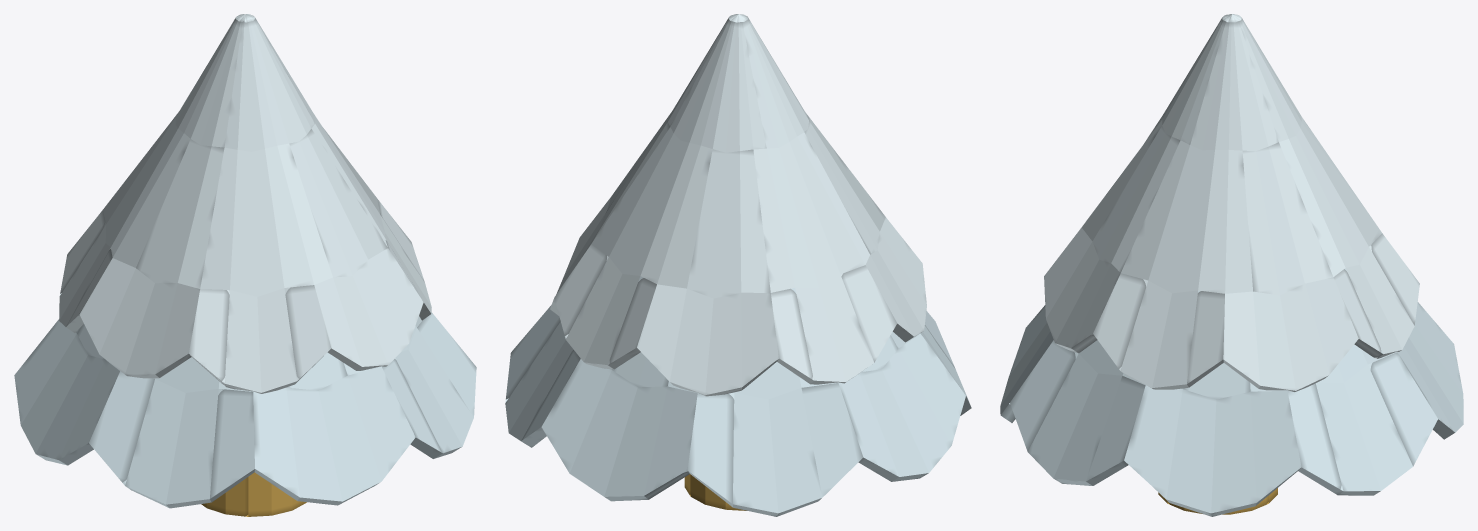
File: treeWhite2.fbx
3 views of the same model, side by side, from view 1: azimuth 30°, elevation 25°; view 2: azimuth 150°, elevation 25°; view 3: azimuth 270°, elevation 25° (orthographic).
Visible parts, largest first — view 1: leaf5, leaf4, woodTree; view 2: leaf5, leaf4, woodTree; view 3: leaf5, leaf4.
Part boxes in pixels (<box>): leaf5: <box>59,14,431,393</box>; leaf4: <box>14,290,476,508</box>; woodTree: <box>201,472,306,516</box>; leaf5: <box>550,14,926,396</box>; leaf4: <box>505,276,971,516</box>; woodTree: <box>684,474,746,510</box>; leaf5: <box>1044,14,1419,391</box>; leaf4: <box>1000,268,1463,516</box>.
Bounding box in the file's own units: 210 × 238 × 210.
1 material, 1 textured.
